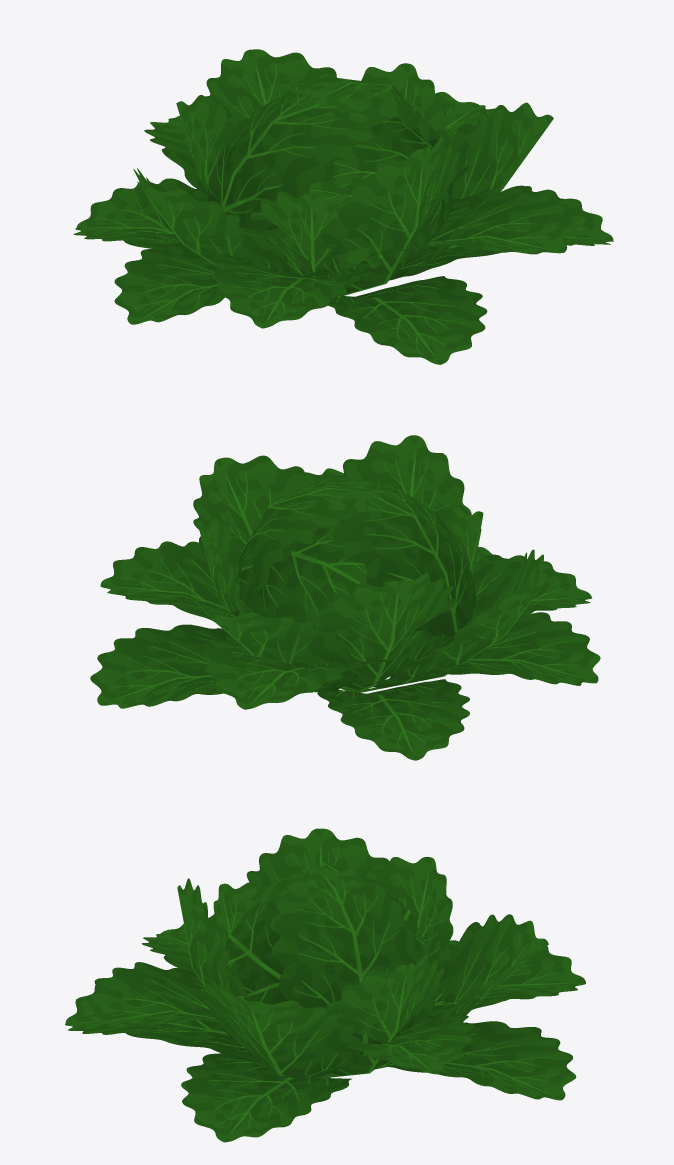
The model's file is CabbagePlant03.fbx.
3 views of the same model, one above another, from view 1: azimuth 30°, elevation 25°; view 2: azimuth 150°, elevation 25°; view 3: azimuth 270°, elevation 25° (orthographic). The views are drawn at different scales.
Parts seen in each view (by area): view 1: CabbagePlant03_LOD0; view 2: CabbagePlant03_LOD0; view 3: CabbagePlant03_LOD0.
Boxes of the visible parts, x1,y1,x2,y2 form: CabbagePlant03_LOD0: (73,49,613,364); CabbagePlant03_LOD0: (90,435,600,760); CabbagePlant03_LOD0: (65,828,585,1142).
Size of what is drawn, in the model's own units: 74.61 by 30.97 by 77.16.
